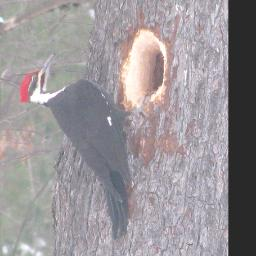Woodpecker: (16, 54, 157, 241)
